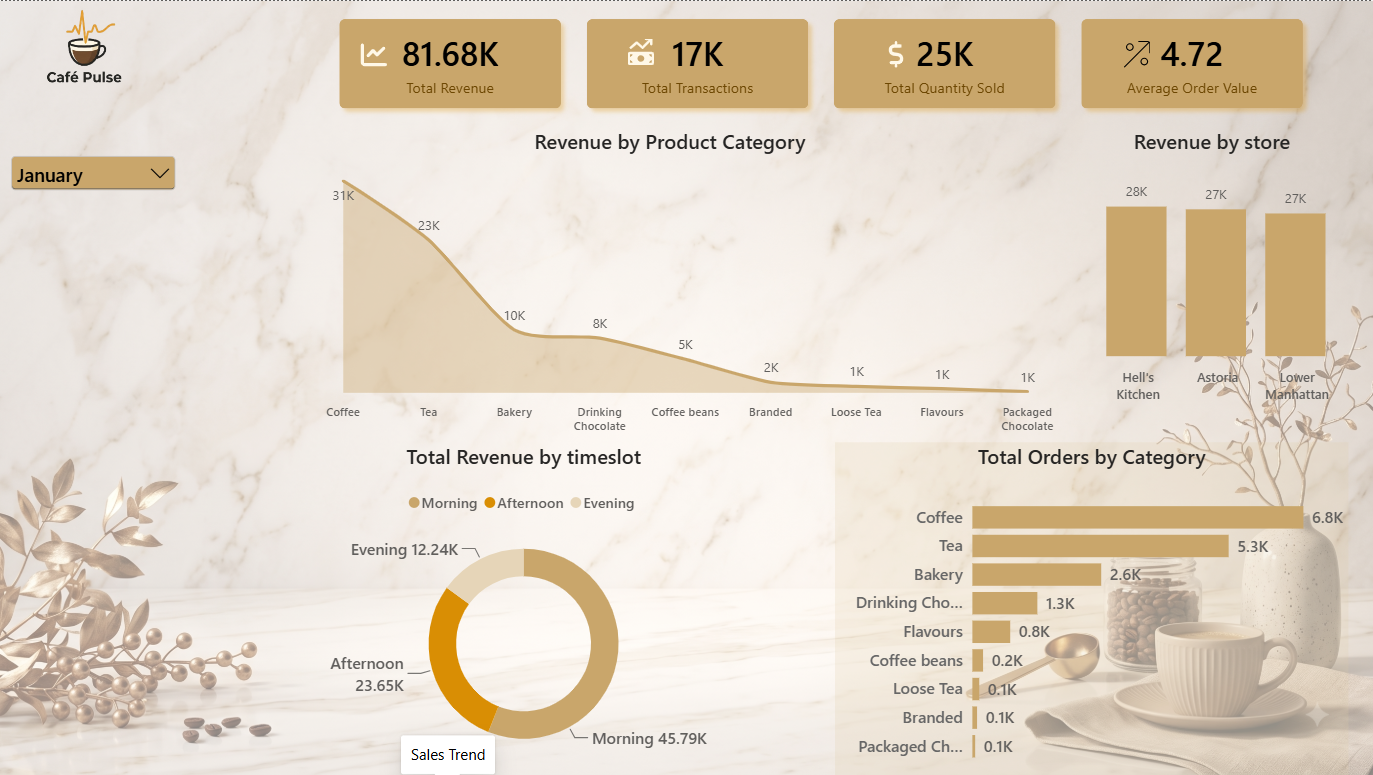

The page's visual inventory and layout, read from the dashboard file:
{"tool":"powerbi","page":{"name":"Overview","canvas":[1280,720],"ordinal":1},"visuals":[{"type":"image","box":[0,0,157,91.9],"z":0},{"type":"slicer","fields":{"Values":["Coffeeshop_Cleaned_Data.Month Name"]},"box":[0,133.7,173.3,48.8],"z":1000},{"type":"cardVisual","fields":{"Data":["_Measures.Total Revenue","_Measures.Total Transaction","_Measures.Total Quantity Sold","_Measures.Average order value"]},"box":[298.8,0,930.2,117.4],"z":2000},{"type":"barChart","title":"Revenue by Category","fields":{"Y":["_Measures.Total Revenue"],"Category":["Coffeeshop_Cleaned_Data.product_category"]},"box":[776.7,410.5,477.9,309.3],"z":3000},{"type":"donutChart","fields":{"Category":["Coffeeshop_Cleaned_Data.timeslot"],"Y":["_Measures.Total Revenue"]},"box":[287.2,410.5,400,309.3],"z":4000},{"type":"areaChart","title":"Revenue by Product Category","fields":{"Category":["Coffeeshop_Cleaned_Data.product_category"],"Y":["_Measures.Total Revenue"]},"box":[247.7,117.4,751.2,293],"z":5000},{"type":"clusteredColumnChart","title":"Revenue by store","fields":{"Category":["Coffeeshop_Cleaned_Data.store_location"],"Y":["_Measures.Total Revenue"]},"box":[983.7,117.4,287.2,264],"z":6000},{"type":"image","box":[332.6,34.9,30,30],"z":7000},{"type":"image","box":[583.7,34.9,25,25],"z":8000},{"type":"image","box":[1045.4,37.2,25,25],"z":9000},{"type":"image","box":[803.5,37.2,59.3,24.4],"z":10000}]}

Visuals, with their boxes in screenshot pixels (x1, y1, x2, y2), scaled from the page's 1280x720 canvas onto the 1373x775 screenshot:
image: 0:0:168:99
slicer - Coffeeshop_Cleaned_Data.Month Name: 0:144:186:196
cardVisual - _Measures.Total Revenue x _Measures.Total Transaction: 321:0:1318:126
"Revenue by Category" barChart: 833:442:1346:774
donutChart - Coffeeshop_Cleaned_Data.timeslot x _Measures.Total Revenue: 308:442:737:774
"Revenue by Product Category" areaChart: 266:126:1071:442
"Revenue by store" clusteredColumnChart: 1055:126:1363:411
image: 357:38:389:70
image: 626:38:653:64
image: 1121:40:1148:67
image: 862:40:925:66
